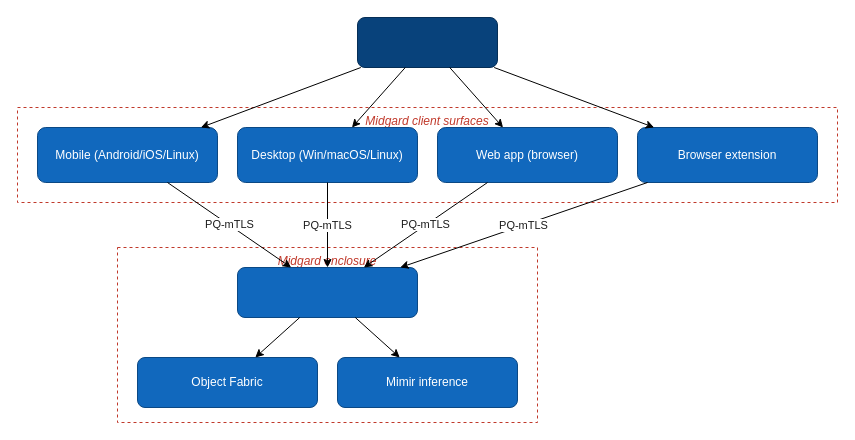
The diagram is 855 pixels wide and 440 high, and some of its shapes have lost their labels. Each missing label, with the centre of its shape:
End user: the point at 427,42
Gateway (PQ-mTLS): the point at 327,292
